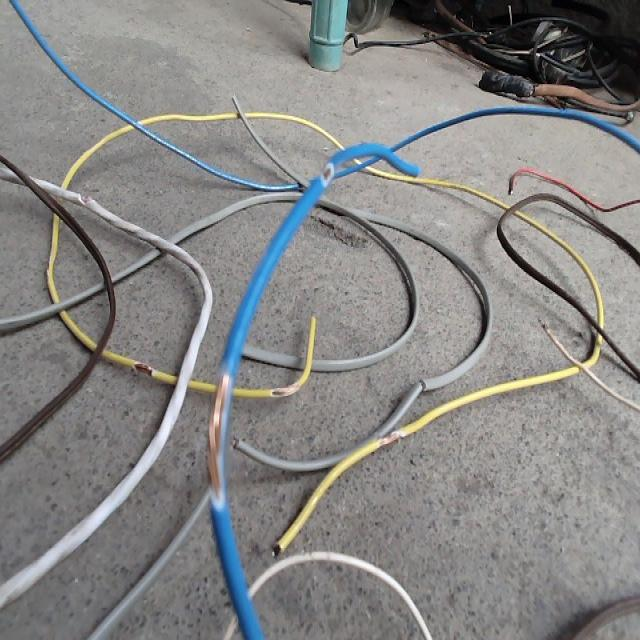-: (206, 368, 231, 505), (270, 382, 301, 398), (376, 428, 402, 444), (131, 359, 154, 377), (320, 160, 334, 185), (76, 190, 92, 207), (417, 376, 426, 391)
